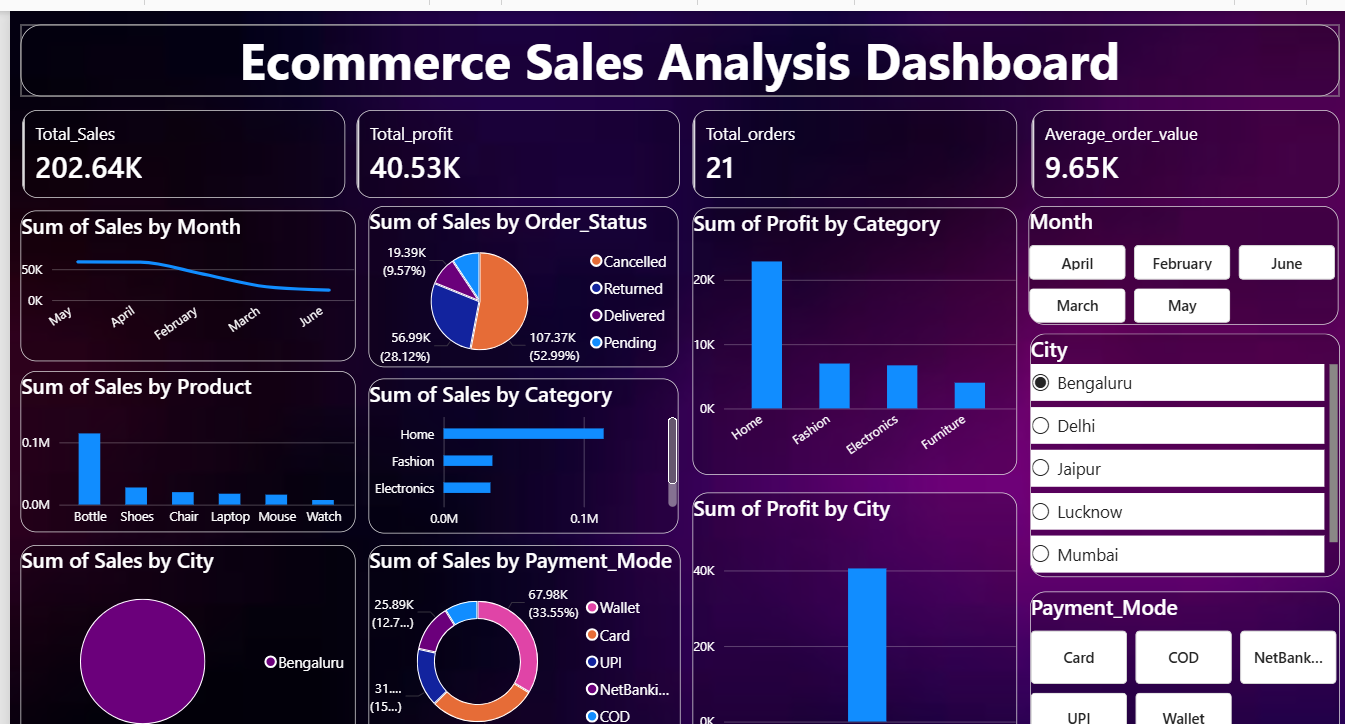

Layout of this report page (visuals, bound fields, positions):
{"tool":"powerbi","page":{"name":"Page 1","canvas":[1280,720],"ordinal":0},"visuals":[{"type":"textbox","box":[9.5,12.7,1259.8,68.4],"z":0},{"type":"cardVisual","fields":{"Data":["DAX Measure.Total_Sales"]},"box":[11.1,93.8,308.6,84.3],"z":1000},{"type":"cardVisual","fields":{"Data":["DAX Measure.Total_profit"]},"box":[330.8,93.8,308.6,84.3],"z":2000},{"type":"cardVisual","fields":{"Data":["DAX Measure.Total_orders"]},"box":[652.2,93.8,310.2,84.3],"z":3000},{"type":"cardVisual","fields":{"Data":["DAX Measure.Average_order_value"]},"box":[975,93.8,294.3,84.3],"z":4000},{"type":"lineChart","fields":{"Category":["ecommerce orders.Month"],"Y":["Sum(ecommerce orders.Sales)"]},"box":[10.1,190.4,320,143.8],"z":5000},{"type":"barChart","fields":{"Category":["ecommerce orders.Category"],"Y":["Sum(ecommerce orders.Sales)"]},"box":[342.3,350.4,295.7,147.8],"z":6000},{"type":"columnChart","fields":{"Category":["ecommerce orders.Product"],"Y":["Sum(ecommerce orders.Sales)"]},"box":[10.1,344.3,320,153.9],"z":7000},{"type":"pieChart","fields":{"Category":["ecommerce orders.City"],"Y":["Sum(ecommerce orders.Sales)"]},"box":[10.1,510.4,320,194.4],"z":8000},{"type":"donutChart","fields":{"Category":["ecommerce orders.Payment_Mode"],"Y":["Sum(ecommerce orders.Sales)"]},"box":[342.3,510.4,297.7,194.4],"z":9000},{"type":"pieChart","fields":{"Category":["ecommerce orders.Order_Status"],"Y":["Sum(ecommerce orders.Sales)"]},"box":[342.3,186.3,295.7,153.9],"z":10000},{"type":"columnChart","fields":{"Category":["ecommerce orders.Category"],"Y":["Sum(ecommerce orders.Profit)"]},"box":[652.2,188.4,309.9,255.2],"z":11000},{"type":"columnChart","fields":{"Category":["ecommerce orders.City"],"Y":["Sum(ecommerce orders.Profit)"]},"box":[652.2,459.7,309.9,245.1],"z":12000},{"type":"advancedSlicerVisual","fields":{"Values":["ecommerce orders.Month"]},"box":[972.2,186.3,295.7,113.4],"z":13000},{"type":"listSlicer","fields":{"Values":["ecommerce orders.City"]},"box":[974.2,307.8,295.7,232.9],"z":13001},{"type":"advancedSlicerVisual","fields":{"Values":["ecommerce orders.Payment_Mode"]},"box":[974.2,554.9,295.7,149.9],"z":13002}]}

Visuals, with their boxes on the page's 1280x720 design canvas (x1, y1, x2, y2). These are canvas units, not pixel positions in the 1345x724 screenshot, which may show the page scaled, cropped or inside an application window:
textbox: bbox=[10, 13, 1269, 81]
cardVisual - DAX Measure.Total_Sales: bbox=[11, 94, 320, 178]
cardVisual - DAX Measure.Total_profit: bbox=[331, 94, 639, 178]
cardVisual - DAX Measure.Total_orders: bbox=[652, 94, 962, 178]
cardVisual - DAX Measure.Average_order_value: bbox=[975, 94, 1269, 178]
lineChart - ecommerce orders.Month x Sum(ecommerce orders.Sales): bbox=[10, 190, 330, 334]
barChart - ecommerce orders.Category x Sum(ecommerce orders.Sales): bbox=[342, 350, 638, 498]
columnChart - ecommerce orders.Product x Sum(ecommerce orders.Sales): bbox=[10, 344, 330, 498]
pieChart - ecommerce orders.City x Sum(ecommerce orders.Sales): bbox=[10, 510, 330, 705]
donutChart - ecommerce orders.Payment_Mode x Sum(ecommerce orders.Sales): bbox=[342, 510, 640, 705]
pieChart - ecommerce orders.Order_Status x Sum(ecommerce orders.Sales): bbox=[342, 186, 638, 340]
columnChart - ecommerce orders.Category x Sum(ecommerce orders.Profit): bbox=[652, 188, 962, 444]
columnChart - ecommerce orders.City x Sum(ecommerce orders.Profit): bbox=[652, 460, 962, 705]
advancedSlicerVisual - ecommerce orders.Month: bbox=[972, 186, 1268, 300]
listSlicer - ecommerce orders.City: bbox=[974, 308, 1270, 541]
advancedSlicerVisual - ecommerce orders.Payment_Mode: bbox=[974, 555, 1270, 705]
